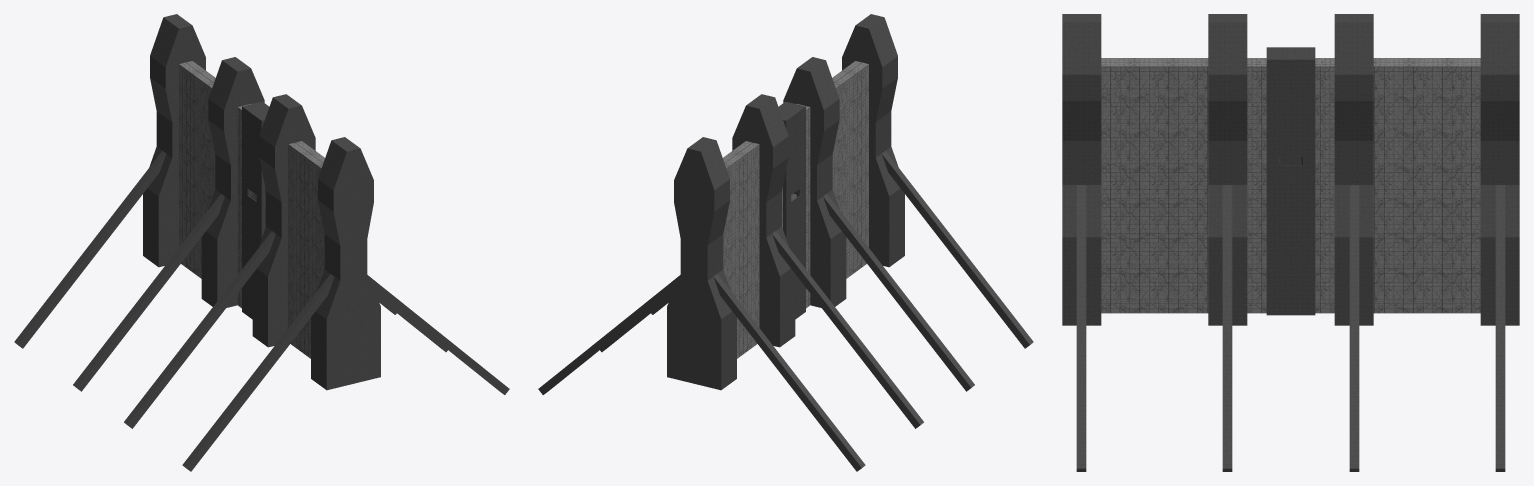
The model's file is MegastructuresStart.fbx.
3 renders of one model, left to right at view 1: azimuth 30°, elevation 25°; view 2: azimuth 150°, elevation 25°; view 3: azimuth 270°, elevation 25°, orthographic. The views are drawn at different scales.
Parts seen in each view (by area): view 1: Cube, Cube.001; view 2: Cube, Cube.001; view 3: Cube, Cube.001.
Boxes of the visible parts, x1,y1,x2,y2 form: Cube: [143, 14, 380, 390]; Cube.001: [14, 151, 509, 471]; Cube: [667, 14, 904, 390]; Cube.001: [538, 151, 1033, 471]; Cube: [1062, 14, 1519, 325]; Cube.001: [1076, 185, 1505, 471].
Bounding box in the file's own units: 19133 × 16260 × 18800.
